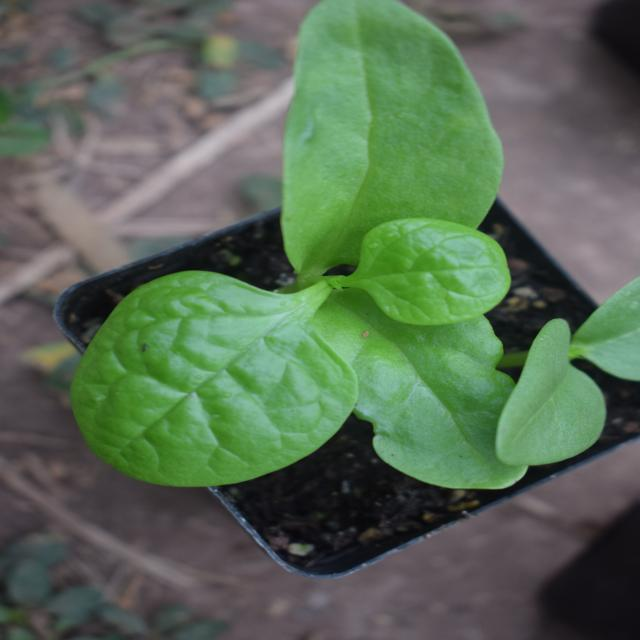Ceylon spinach: (34, 88, 492, 570)
